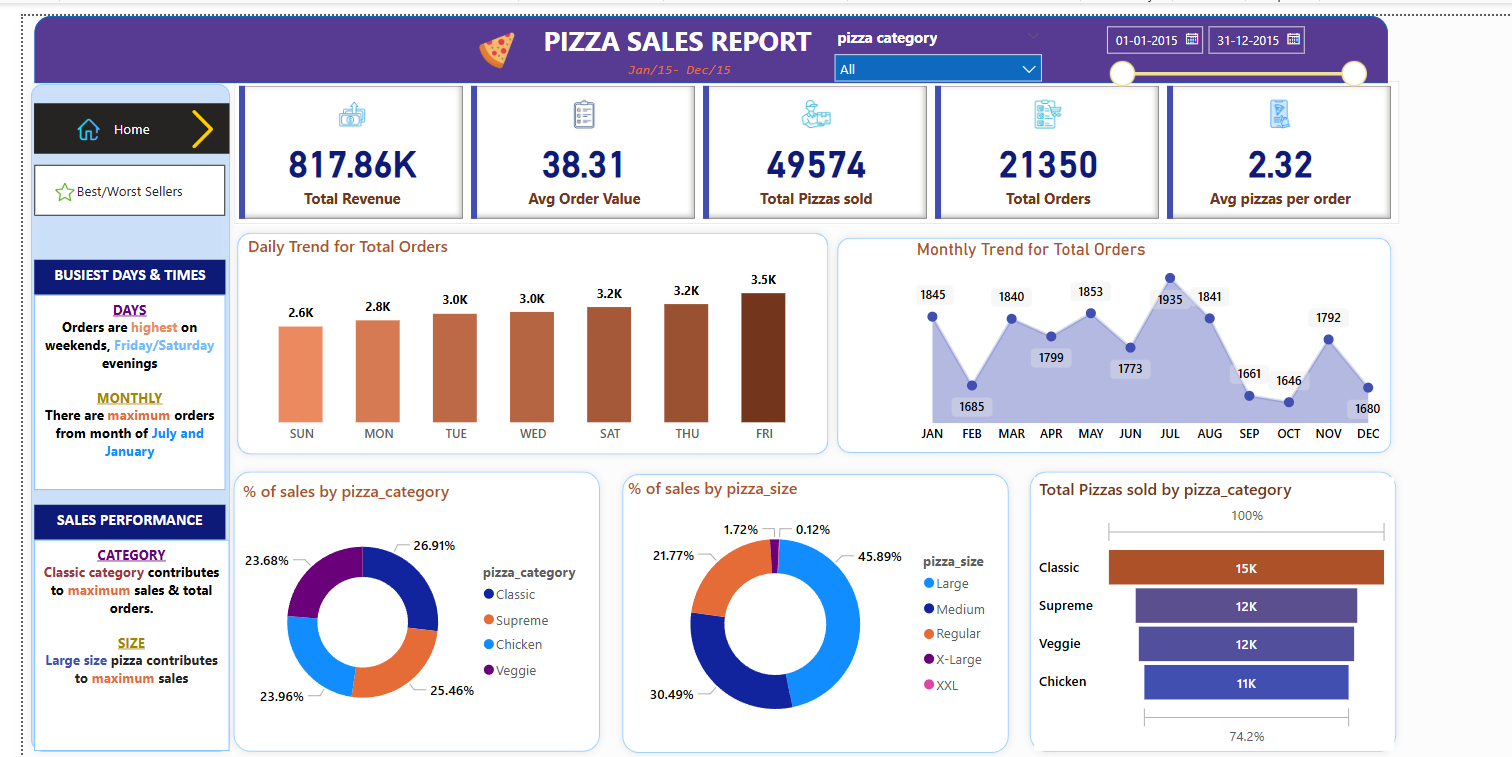

This screenshot's page, from the dashboard's own definition file:
{"tool":"powerbi","page":{"name":"Home","canvas":[1500,820],"ordinal":0},"visuals":[{"type":"shape","box":[0,60,215,683.8],"z":0},{"type":"cardVisual","fields":{"Data":["pizza_sales.Total Revenue","pizza_sales.Avg Order Value","pizza_sales.Total Pizzas sold","pizza_sales.Total Orders","pizza_sales.Avg pizzas per order"]},"box":[211.2,65,1165,143.8],"z":1000},{"type":"shape","box":[11.2,0,1353.8,67.5],"z":2000},{"type":"textbox","box":[473.8,1.2,361.2,63.8],"z":3000},{"type":"textbox","box":[600,38.8,128.8,28.8],"z":4000},{"type":"image","box":[296.2,11.2,355,46.2],"z":5000},{"type":"shape","box":[206.7,208.8,607,237.8],"z":6000},{"type":"columnChart","title":"Daily Trend for Total Orders","fields":{"Category":["pizza_sales.Order Day"],"Y":["pizza_sales.Total Orders"]},"box":[220.5,218.8,580.7,217.8],"z":7000},{"type":"shape","box":[806,213.2,570,231.2],"z":8000},{"type":"areaChart","title":"Monthly Trend for Total Orders","fields":{"Y":["pizza_sales.Total Orders"],"Category":["pizza_sales.Order Month"]},"box":[889,223,477.5,213.8],"z":9000},{"type":"shape","box":[202.5,447.5,382.5,296.2],"z":10000},{"type":"shape","box":[591.2,450,402.5,295],"z":11000},{"type":"shape","box":[998.8,447.5,382.5,296.2],"z":12000},{"type":"donutChart","title":"% of sales by pizza_category","fields":{"Category":["pizza_sales.pizza_category"],"Y":["pizza_sales.Total Revenue"]},"box":[215,463.8,358.8,263.8],"z":13000},{"type":"donutChart","title":"% of sales by pizza_size","fields":{"Y":["pizza_sales.Total Revenue"],"Category":["pizza_sales.pizza_size"]},"box":[600,460,385,275],"z":14000},{"type":"funnel","fields":{"Category":["pizza_sales.pizza_category"],"Y":["pizza_sales.Total Pizzas sold"]},"box":[1011.2,461.2,360,273.8],"z":15000},{"type":"textbox","box":[11.2,243.8,191.2,35],"z":16000},{"type":"textbox","box":[11.2,278.8,191.2,195],"z":17000},{"type":"textbox","box":[11.2,488.8,191.2,35],"z":18000},{"type":"textbox","box":[11.2,523.8,195,211.2],"z":19000},{"type":"slicer","fields":{"Values":["pizza_sales.pizza_category"]},"box":[801.2,6.2,227.5,65],"z":20000},{"type":"slicer","fields":{"Values":["pizza_sales.order_date"]},"box":[1071.2,0,281.2,81.2],"z":21000},{"type":"pageNavigator","box":[11.2,87.5,195,50],"z":21001},{"type":"pageNavigator","box":[11.2,148.8,191.2,51.2],"z":21002},{"type":"image","box":[153.8,88.8,52.5,48.8],"z":21003},{"type":"image","box":[42.5,97.5,46.2,32.5],"z":21004},{"type":"image","box":[27.5,148.8,28.8,55],"z":21005}]}

Visuals, with their boxes on the page's 1500x820 design canvas (x1, y1, x2, y2). These are canvas units, not pixel positions in the 1512x757 screenshot, which may show the page scaled, cropped or inside an application window:
shape: <box>0,60,215,744</box>
cardVisual - pizza_sales.Total Revenue x pizza_sales.Avg Order Value: <box>211,65,1376,209</box>
shape: <box>11,0,1365,68</box>
textbox: <box>474,1,835,65</box>
textbox: <box>600,39,729,68</box>
image: <box>296,11,651,57</box>
shape: <box>207,209,814,447</box>
"Daily Trend for Total Orders" columnChart: <box>220,219,801,437</box>
shape: <box>806,213,1376,444</box>
"Monthly Trend for Total Orders" areaChart: <box>889,223,1366,437</box>
shape: <box>202,448,585,744</box>
shape: <box>591,450,994,745</box>
shape: <box>999,448,1381,744</box>
"% of sales by pizza_category" donutChart: <box>215,464,574,728</box>
"% of sales by pizza_size" donutChart: <box>600,460,985,735</box>
funnel - pizza_sales.pizza_category x pizza_sales.Total Pizzas sold: <box>1011,461,1371,735</box>
textbox: <box>11,244,202,279</box>
textbox: <box>11,279,202,474</box>
textbox: <box>11,489,202,524</box>
textbox: <box>11,524,206,735</box>
slicer - pizza_sales.pizza_category: <box>801,6,1029,71</box>
slicer - pizza_sales.order_date: <box>1071,0,1352,81</box>
pageNavigator: <box>11,88,206,138</box>
pageNavigator: <box>11,149,202,200</box>
image: <box>154,89,206,138</box>
image: <box>42,98,89,130</box>
image: <box>28,149,56,204</box>
